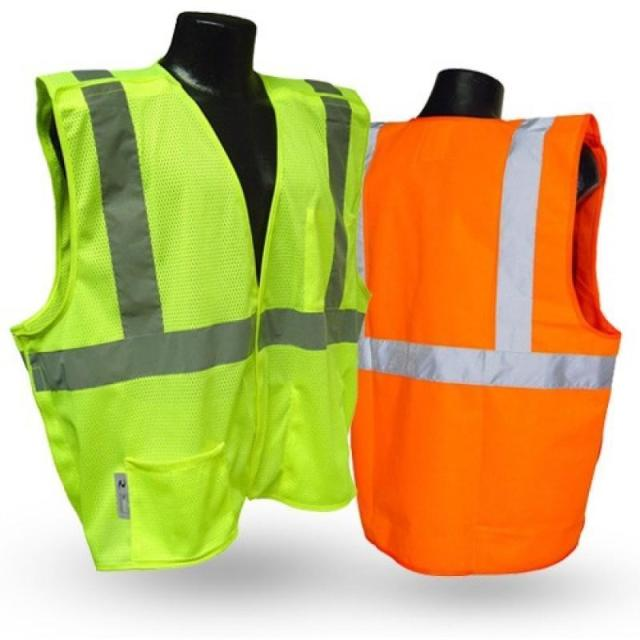Vest: (9, 52, 370, 574), (350, 111, 620, 585)
